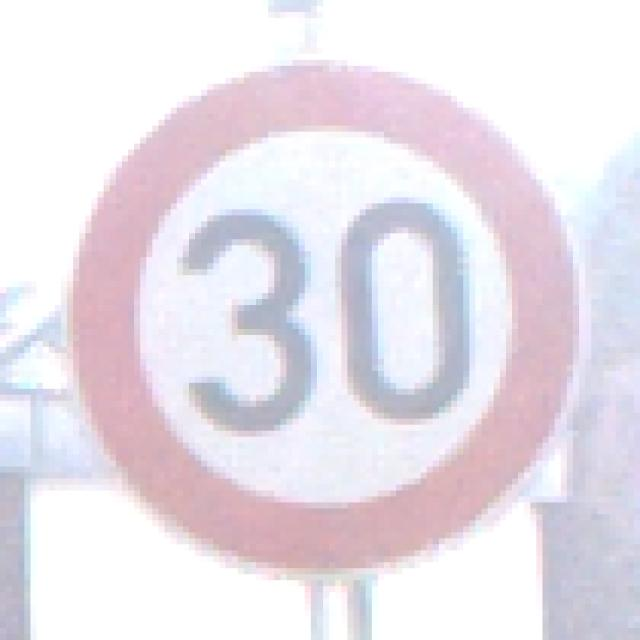Speed Limit -30-: (61, 51, 579, 583)
